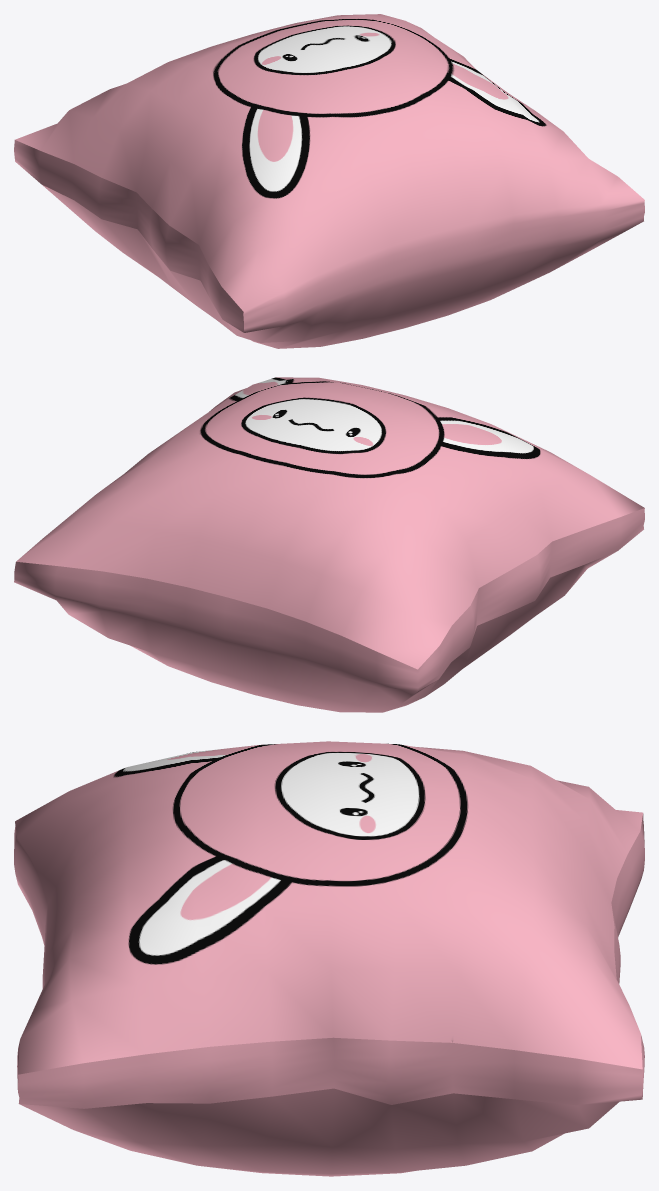
The model's file is cusion_naro.glb.
3 views of the same model, one above another, from view 1: azimuth 30°, elevation 25°; view 2: azimuth 150°, elevation 25°; view 3: azimuth 270°, elevation 25° (orthographic). The views are drawn at different scales.
Parts seen in each view (by area): view 1: pillow_pupple; view 2: pillow_pupple; view 3: pillow_pupple.
Part boxes in pixels (x1,y1,x2,y2): pillow_pupple: (14,14,644,348); pillow_pupple: (14,377,644,712); pillow_pupple: (14,741,644,1176).
Bounding box in the file's own units: 2.55 × 1.56 × 2.5.
1 material, 1 textured.
